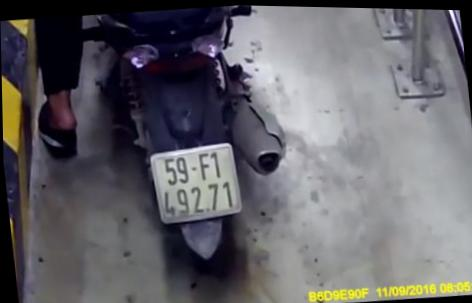LP: (147, 138, 244, 224)
